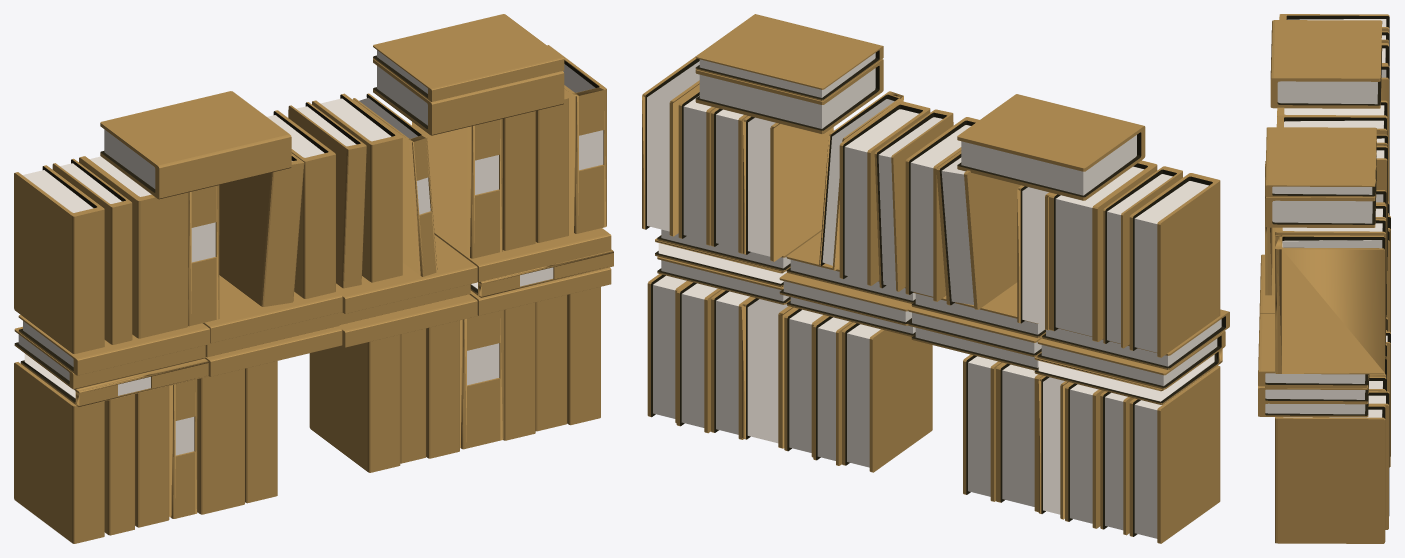
Rendered from Books.fbx.
3 views of the same model, side by side, from view 1: azimuth 30°, elevation 25°; view 2: azimuth 150°, elevation 25°; view 3: azimuth 270°, elevation 25° (orthographic). The views are drawn at different scales.
Parts seen in each view (by area): view 1: Box002_36, Box002_44, Box002_15, Box002_7, Box002_5, Box002_32, BOOK_LABEL_1, Box002_31, Box002_27, Box002_42, Box002_28, Box002_33 (+29 smaller); view 2: Box002_36, Box002_44, Box002_15, Box002_7, BOOK_LABEL_1, Box002_5, Box002_32, Box002_31, Box002_27, Box002_28, BOOK_LABEL, BOOK_LABEL_5 (+29 smaller); view 3: BOOK_LABEL, Box002_2, Box002_44, Box002_5, Box002_28, Box002_20, BOOK_LABEL_6, Box002_4, Box002_33, Box002_25, Box002_32, Box002_1 (+12 smaller).
Part boxes in pixels (x1,y1,x2,y2): Box002_36: (14,165,104,353); Box002_44: (100,91,291,199); Box002_15: (14,362,104,543); Box002_7: (309,334,400,472); Box002_5: (373,14,564,101); Box002_32: (219,153,304,306); BOOK_LABEL_1: (412,119,502,258); Box002_31: (79,156,187,338); Box002_27: (312,93,402,282); Box002_42: (197,368,244,514); Box002_28: (373,59,564,135); Box002_33: (267,110,335,298); Box002_36: (1129,173,1220,357); Box002_44: (957,94,1145,200); Box002_15: (1129,365,1220,543); Box002_7: (842,322,932,472); BOOK_LABEL_1: (742,116,833,261); Box002_5: (695,14,883,100); Box002_32: (936,151,1020,309); Box002_31: (1048,160,1157,341); Box002_27: (839,101,930,285); Box002_28: (695,59,883,133); BOOK_LABEL: (642,56,699,236); BOOK_LABEL_5: (741,297,795,448); BOOK_LABEL: (1275,235,1385,374); Box002_2: (1275,405,1385,543); Box002_44: (1270,20,1382,108); Box002_5: (1265,127,1376,197); Box002_28: (1265,140,1376,227); Box002_20: (1258,313,1368,386); BOOK_LABEL_6: (1258,374,1368,402); Box002_4: (1258,374,1369,417); Box002_33: (1276,115,1386,134); Box002_25: (1275,219,1385,355); Box002_32: (1277,100,1387,135); Box002_1: (1368,391,1389,529).
Size of the model in its own units: 320 by 214 by 76.05.
